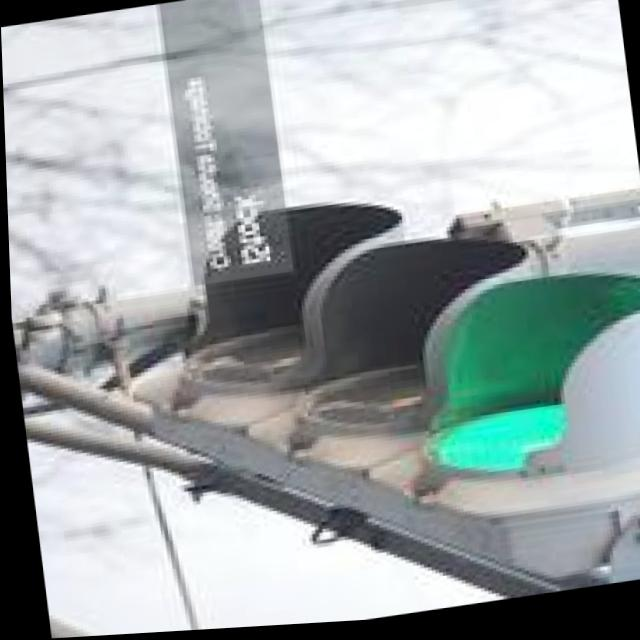green_light: (381, 294, 640, 568)
